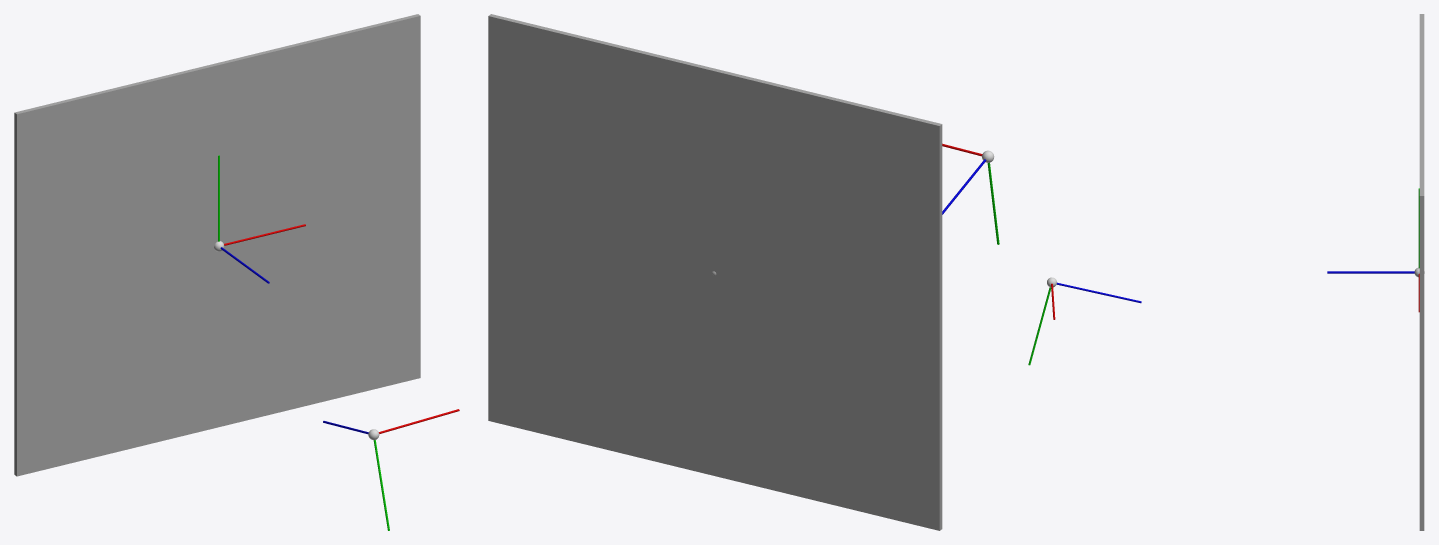
File: scene_0000_view_0000_world.glb
3 views of the same model, side by side, from view 1: azimuth 30°, elevation 25°; view 2: azimuth 150°, elevation 25°; view 3: azimuth 270°, elevation 25° (orthographic). The views are drawn at different scales.
Visible parts, largest first — view 1: table_z_0, camera_frame, world_frame; view 2: table_z_0, camera_frame; view 3: table_z_0, camera_frame, world_frame.
Part boxes in pixels (<box>): table_z_0: <box>14,14,420,476</box>; camera_frame: <box>323,409,459,530</box>; world_frame: <box>214,155,305,283</box>; table_z_0: <box>488,14,942,530</box>; camera_frame: <box>942,143,999,244</box>; table_z_0: <box>1419,14,1424,530</box>; camera_frame: <box>1028,277,1141,365</box>; world_frame: <box>1327,188,1424,312</box>.
Bounding box in the file's own units: 0.56 × 0.48 × 0.5149.
